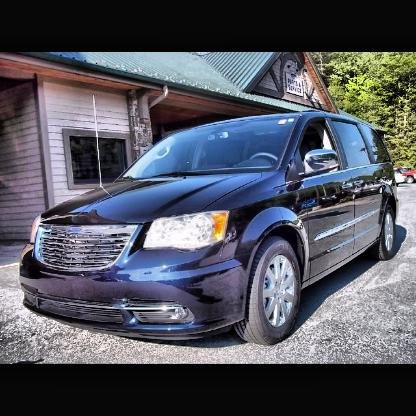Chrysler Town and Country Minivan 2012: (19, 109, 399, 349)
